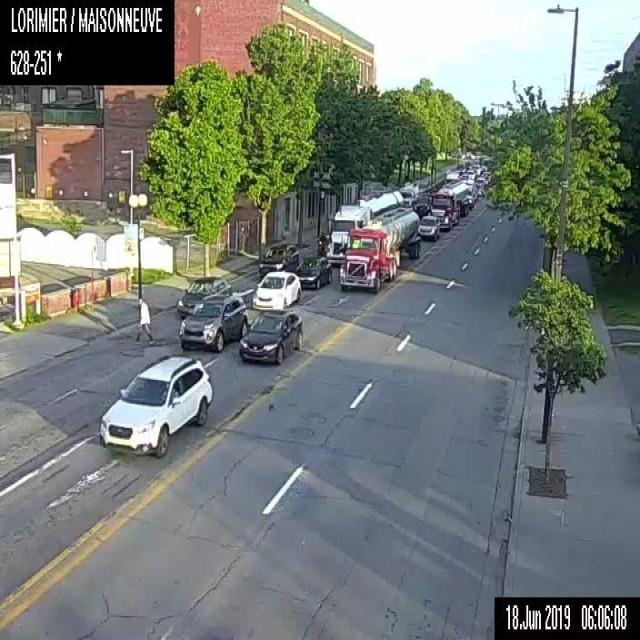pedestrian: (134, 296, 154, 344)
vehicle: (98, 353, 213, 456), (339, 206, 420, 292), (326, 189, 403, 265), (180, 294, 247, 351), (239, 309, 302, 363), (176, 276, 232, 318), (252, 270, 300, 310), (431, 180, 468, 228), (259, 242, 298, 272), (295, 255, 331, 286), (417, 214, 438, 240), (414, 192, 430, 214), (400, 188, 418, 205), (465, 184, 475, 208), (316, 231, 326, 255)
